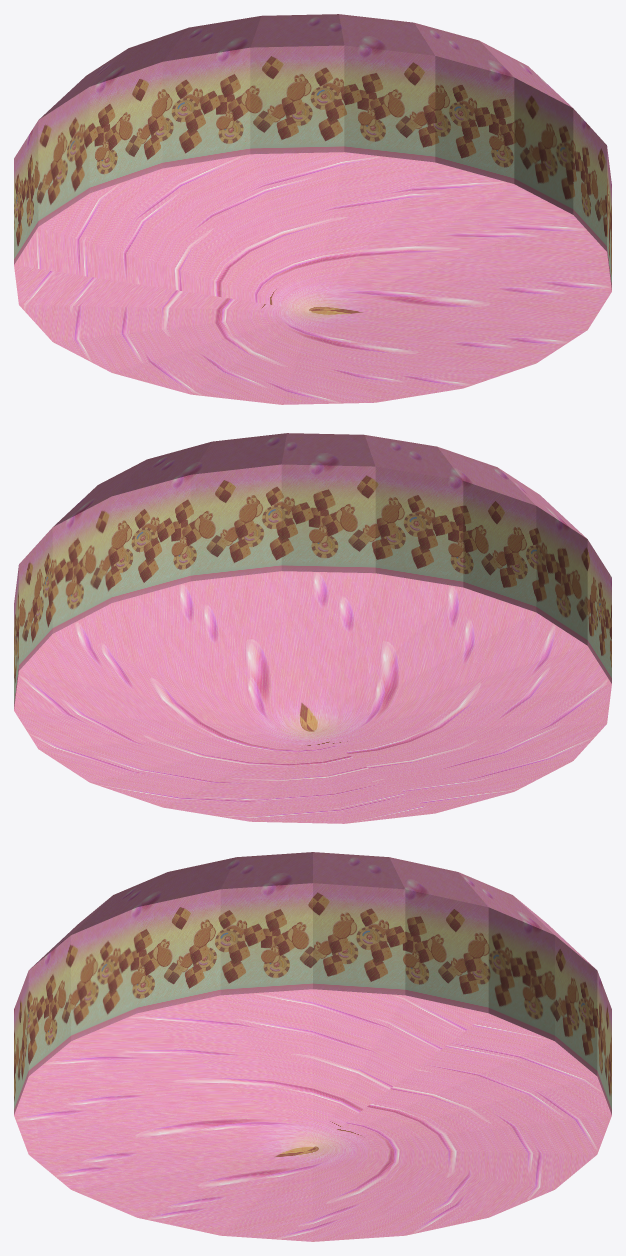
File: vrcorn.glb
3 views of the same model, one above another, from view 1: azimuth 30°, elevation 25°; view 2: azimuth 150°, elevation 25°; view 3: azimuth 270°, elevation 25° (orthographic).
Parts seen in each view (by area): view 1: polygon0; view 2: polygon0; view 3: polygon0.
Part boxes in pixels (x1,y1,x2,y2): polygon0: (14,14,611,404); polygon0: (14,433,611,823); polygon0: (14,852,611,1241).
Bounding box in the file's own units: 545 × 249 × 545.
1 material, 1 textured.
